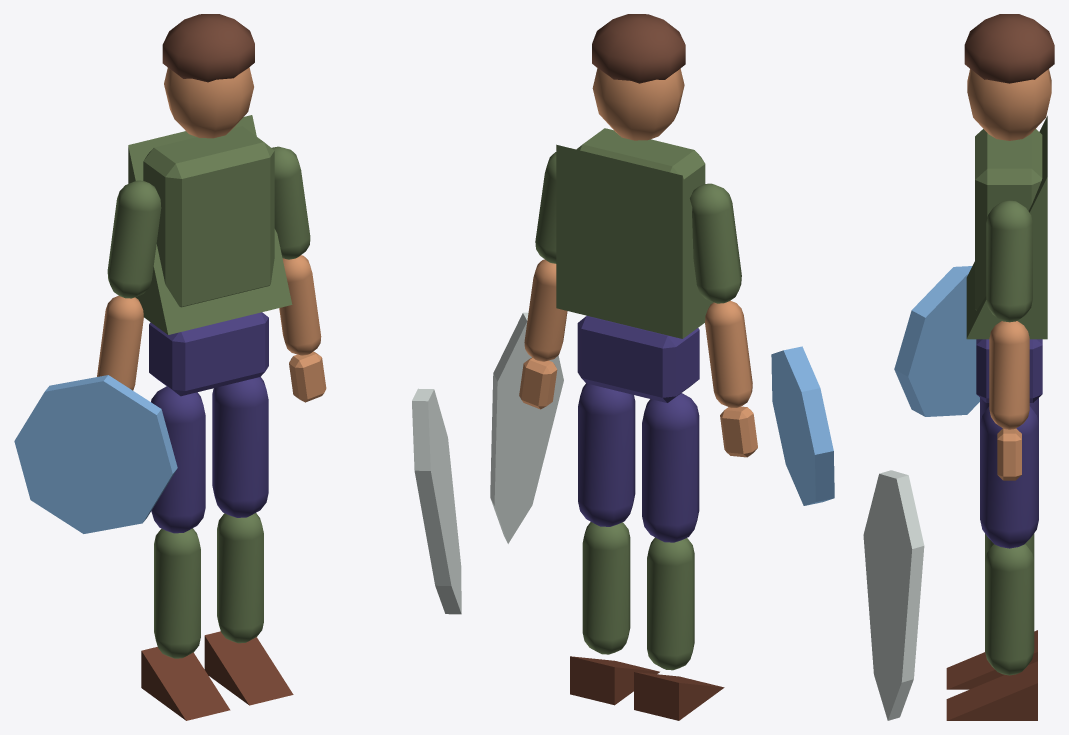
Rendered from adventurer.rustic.glb.
The picture shows the model from 3 angles, left to right: view 1: azimuth 30°, elevation 25°; view 2: azimuth 150°, elevation 25°; view 3: azimuth 270°, elevation 25°; orthographic projection.
Parts seen in each view (by area): view 1: accessory.off-hand, torso, pelvis, thigh.right, accessory.main-hand, tunic, thigh.left, shin.left, shin.right, hair, upper-arm.left, head (+6 smaller); view 2: tunic, accessory.main-hand, pelvis, thigh.left, thigh.right, accessory.off-hand, shin.right, shin.left, hair, upper-arm.left, head, forearm.left (+7 smaller); view 3: accessory.main-hand, accessory.off-hand, shin.right, thigh.right, torso, upper-arm.right, hair, head, tunic, forearm.right, foot.right, pelvis (+2 smaller).
Part boxes in pixels (x1=…): accessory.off-hand: x1=14, y1=375, x2=177, y2=533; torso: x1=143, y1=126, x2=274, y2=307; pelvis: x1=149, y1=312, x2=268, y2=396; thigh.right: x1=212, y1=377, x2=268, y2=517; accessory.main-hand: x1=412, y1=388, x2=461, y2=614; tunic: x1=128, y1=115, x2=292, y2=334; thigh.left: x1=151, y1=386, x2=205, y2=533; shin.left: x1=154, y1=528, x2=200, y2=658; shin.right: x1=217, y1=513, x2=263, y2=643; hair: x1=162, y1=14, x2=254, y2=82; upper-arm.left: x1=107, y1=180, x2=161, y2=298; head: x1=164, y1=67, x2=253, y2=138; tunic: x1=556, y1=144, x2=713, y2=338; accessory.main-hand: x1=490, y1=312, x2=563, y2=543; pelvis: x1=577, y1=316, x2=699, y2=402; thigh.left: x1=642, y1=393, x2=699, y2=542; thigh.right: x1=578, y1=383, x2=635, y2=526; accessory.off-hand: x1=771, y1=346, x2=834, y2=505; shin.right: x1=582, y1=522, x2=630, y2=654; shin.left: x1=647, y1=537, x2=694, y2=670; hair: x1=592, y1=14, x2=685, y2=83; upper-arm.left: x1=690, y1=183, x2=741, y2=303; head: x1=592, y1=68, x2=684, y2=140; forearm.left: x1=705, y1=300, x2=752, y2=407; accessory.main-hand: x1=863, y1=470, x2=924, y2=720; accessory.off-hand: x1=894, y1=266, x2=979, y2=416; shin.right: x1=985, y1=544, x2=1034, y2=675; thigh.right: x1=980, y1=406, x2=1038, y2=548; torso: x1=975, y1=129, x2=1042, y2=310; upper-arm.right: x1=986, y1=200, x2=1032, y2=322; hair: x1=964, y1=14, x2=1054, y2=83; head: x1=967, y1=69, x2=1051, y2=140; tunic: x1=966, y1=116, x2=1047, y2=339; forearm.right: x1=989, y1=321, x2=1029, y2=429; foot.right: x1=946, y1=661, x2=1037, y2=720; pelvis: x1=976, y1=339, x2=1042, y2=402.
Bounding box in the file's own units: 1.87 × 3.03 × 0.7764.
